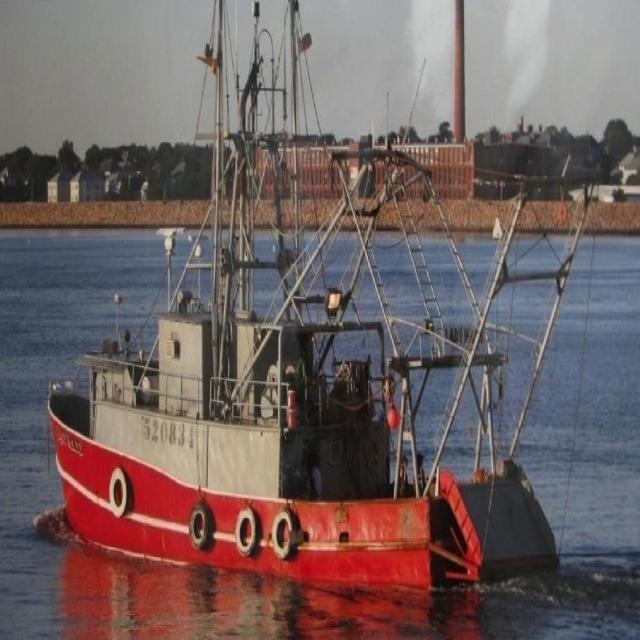boat: (25, 0, 592, 626)
